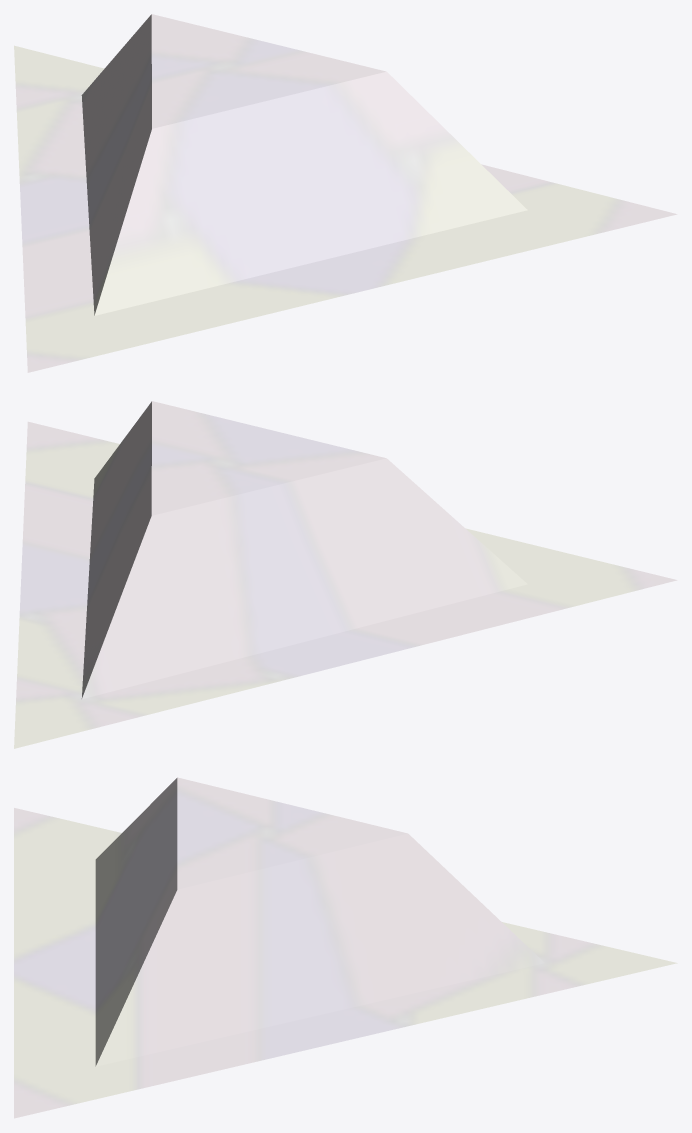
Rendered from supplied-panels.gltf.
3 views of the same model, one above another, from view 1: azimuth 30°, elevation 25°; view 2: azimuth 150°, elevation 25°; view 3: azimuth 270°, elevation 25° (orthographic). The views are drawn at different scales.
Parts seen in each view (by area): view 1: side-0, skirt-0, skirt-2, top, side-2, skirt-1; view 2: side-2, skirt-2, skirt-1, top, side-1, skirt-0; view 3: side-1, skirt-0, skirt-1, side-0, top, skirt-2.
Boxes of the visible parts, x1,y1,x2,y2 form: side-0: (94,71,527,315); skirt-0: (28,210,676,372); skirt-2: (14,46,94,372); top: (151,14,385,128); side-2: (81,14,151,315); skirt-1: (14,45,676,214); side-2: (82,458,527,699); skirt-2: (14,580,676,748); skirt-1: (14,422,94,748); top: (151,401,385,515); side-1: (81,401,151,698); skirt-0: (28,421,677,584); side-1: (96,833,544,1066); skirt-0: (14,808,95,1118); skirt-1: (14,963,677,1118); side-0: (95,778,177,1066); top: (177,777,407,889); skirt-2: (15,808,676,962).
Size of the model in its own units: 3.6 by 0.7 by 3.25.
7 materials, 7 textured.
